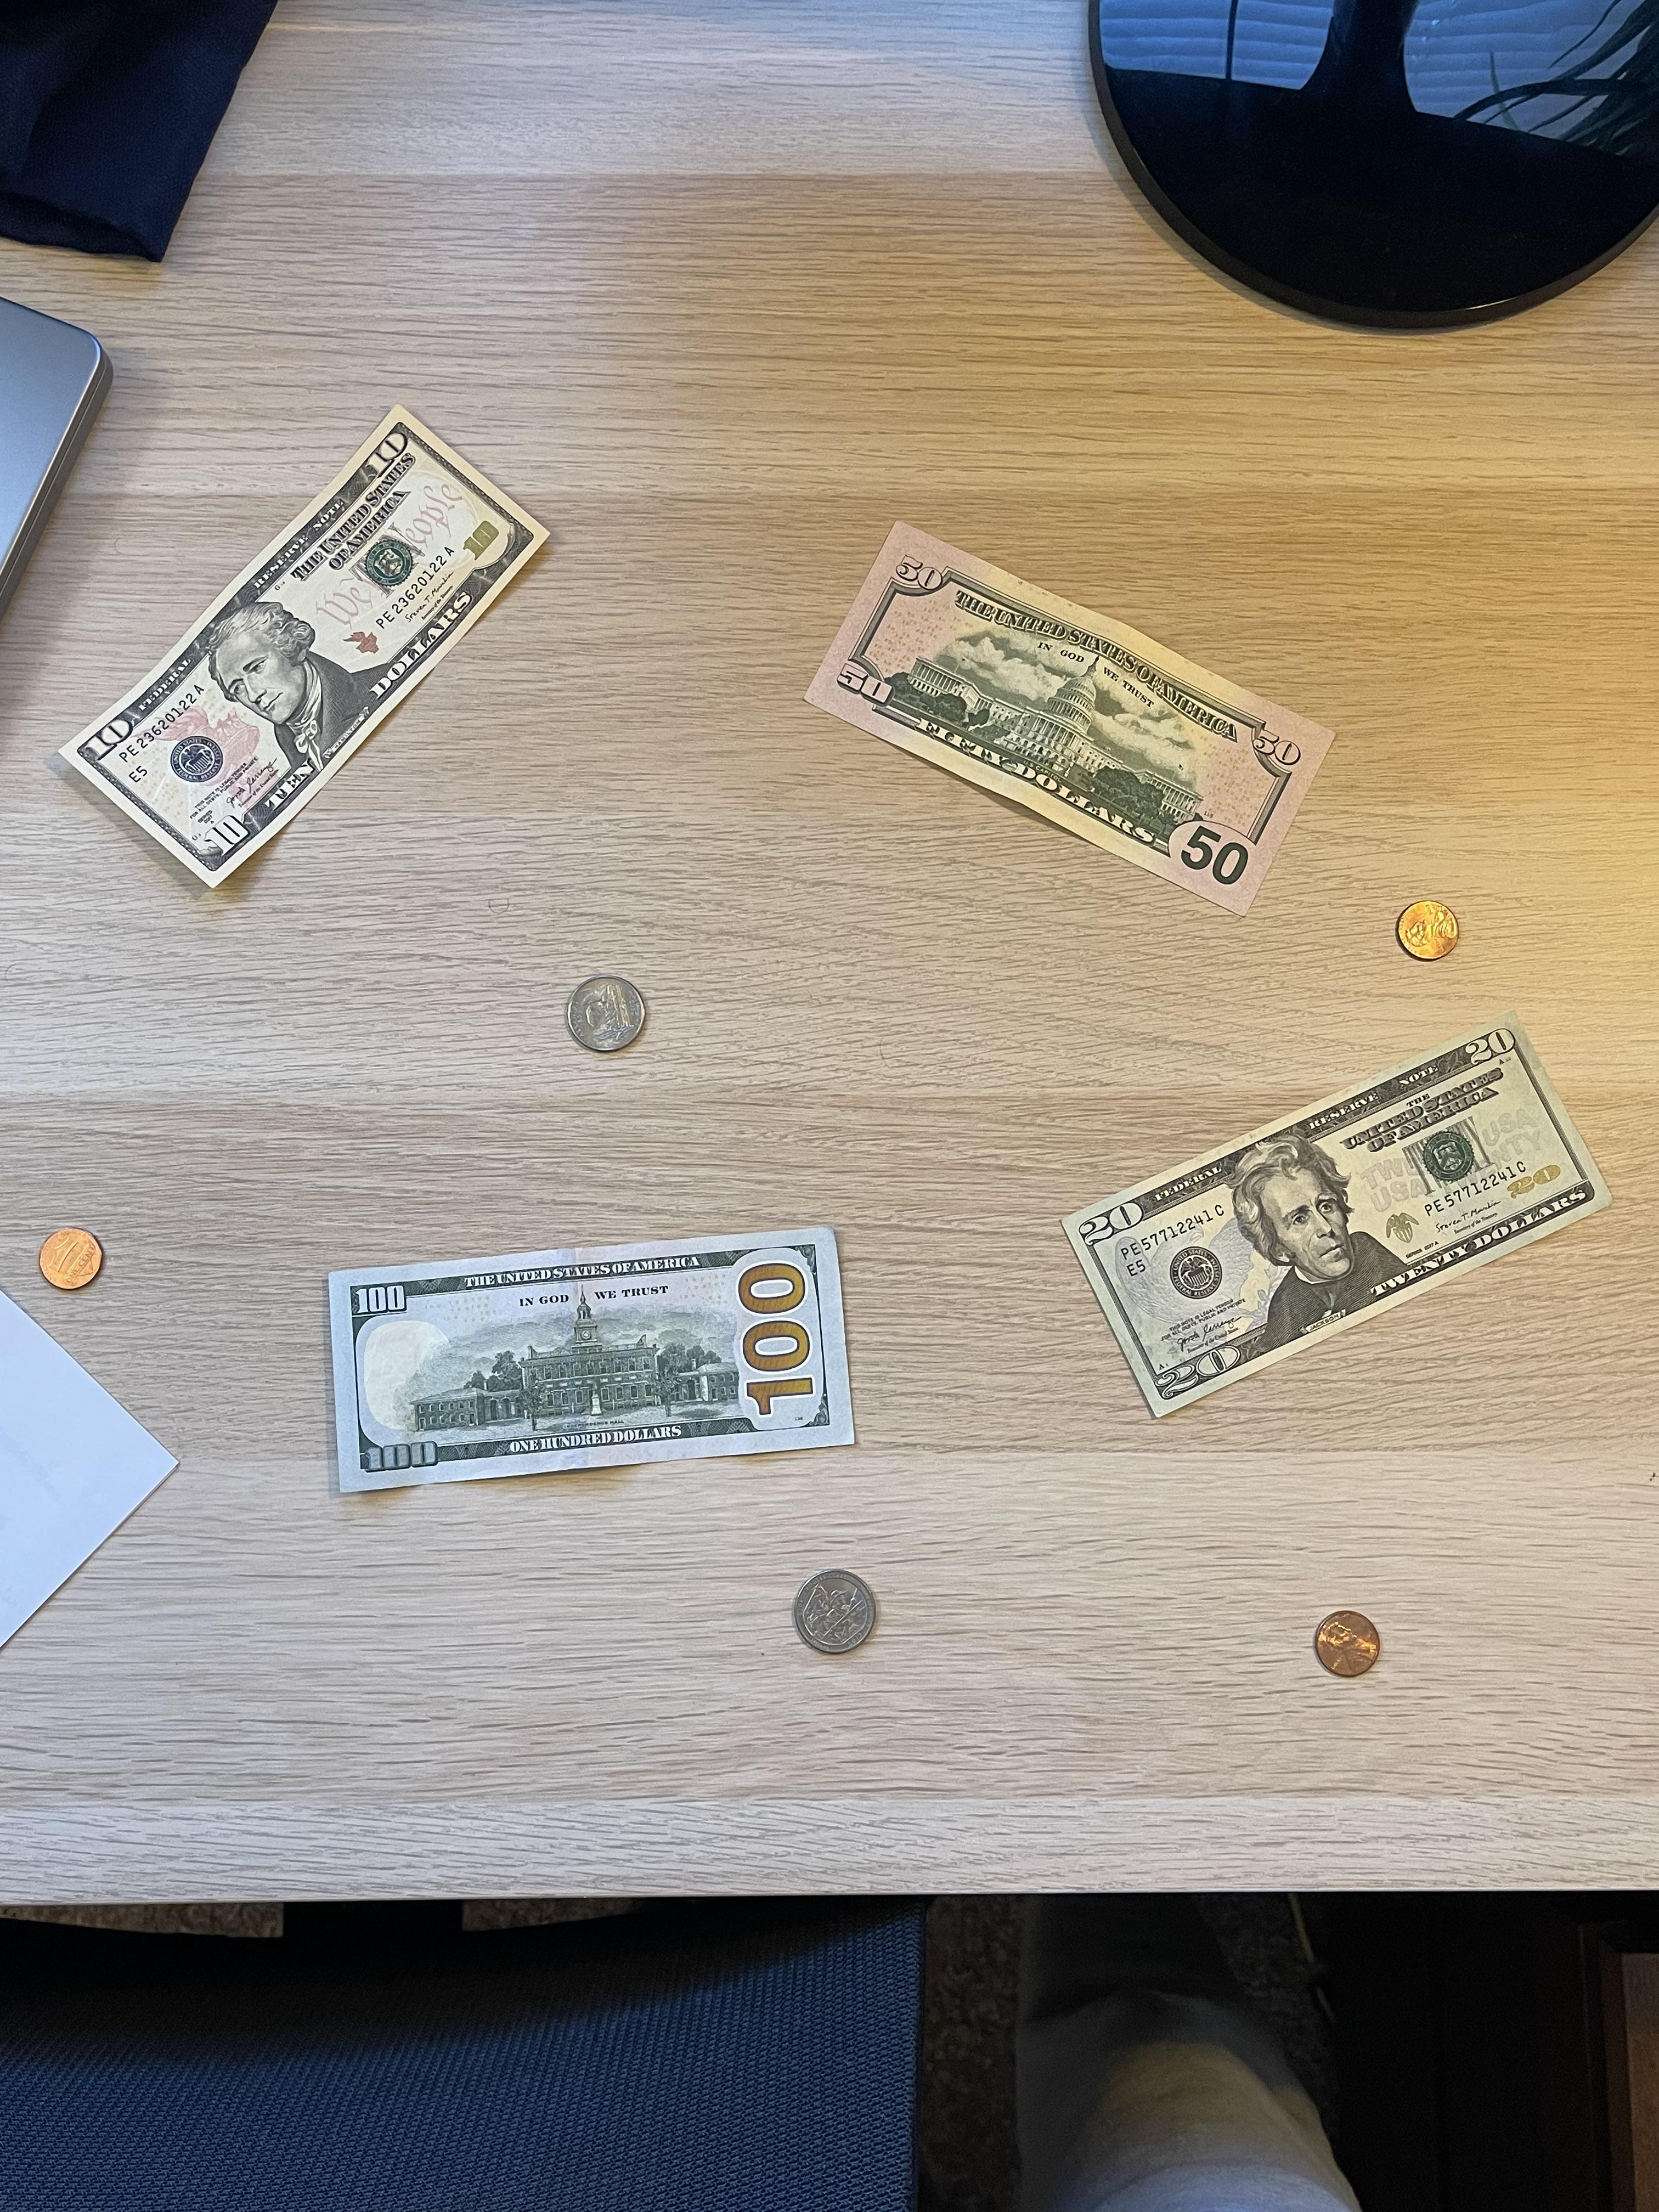FiftyBill: (800, 517, 1338, 921)
HundredBill: (328, 1226, 857, 1494)
Penny: (1314, 1609, 1380, 1679), (38, 1228, 103, 1291), (1398, 900, 1459, 960)
Quarter: (795, 1569, 877, 1655), (566, 974, 647, 1052)
TenBill: (54, 404, 552, 892)
TwentyBill: (1054, 1008, 1614, 1423)
